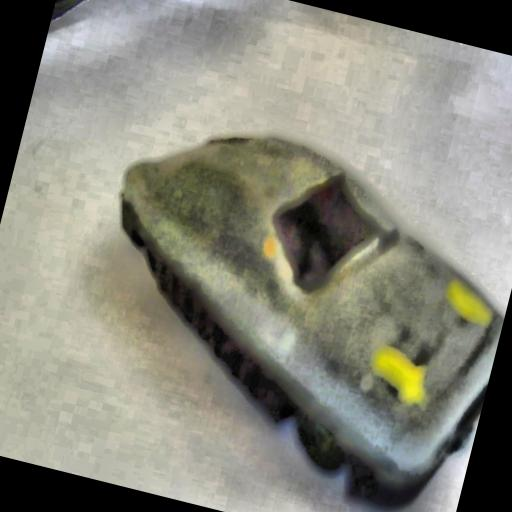normal_car: (45, 81, 512, 512)
